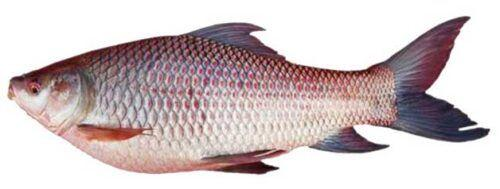Indian Carp: (12, 15, 492, 176)
